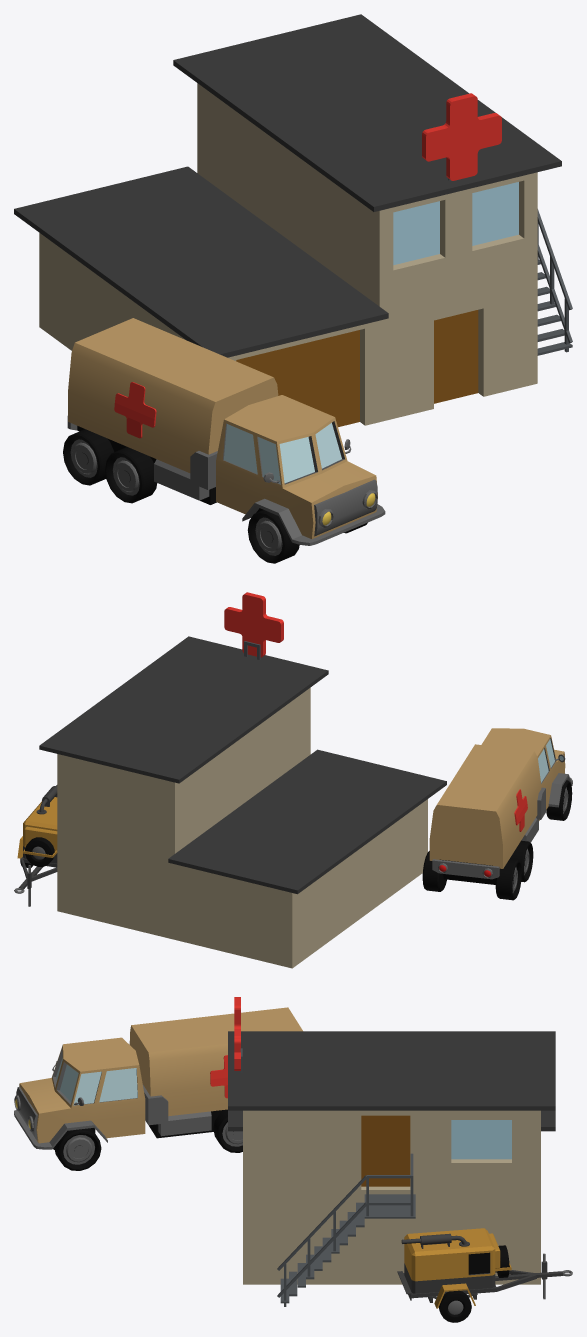
The model's file is hospital_desert.fbx.
3 views of the same model, one above another, from view 1: azimuth 30°, elevation 25°; view 2: azimuth 150°, elevation 25°; view 3: azimuth 270°, elevation 25° (orthographic). The views are drawn at different scales.
Visible parts, largest first — view 1: hospital_building, paramedical_truck, hospital, ladder; view 2: hospital_building, paramedical_truck, Generator, hospital; view 3: hospital_building, paramedical_truck, Generator, ladder, hospital.
Boxes of the visible parts, x1,y1,x2,y2 form: hospital_building: [14, 14, 561, 427]; paramedical_truck: [63, 318, 385, 563]; hospital: [422, 93, 501, 180]; ladder: [537, 209, 572, 355]; hospital_building: [39, 636, 446, 968]; paramedical_truck: [422, 728, 572, 900]; Generator: [14, 785, 57, 906]; hospital: [224, 592, 283, 659]; hospital_building: [228, 1031, 555, 1284]; paramedical_truck: [14, 1007, 302, 1170]; Generator: [397, 1228, 572, 1322]; ladder: [277, 1153, 415, 1306]; hospital: [234, 997, 242, 1072].
Size of the model in its own units: 1224 by 653 by 1313.
